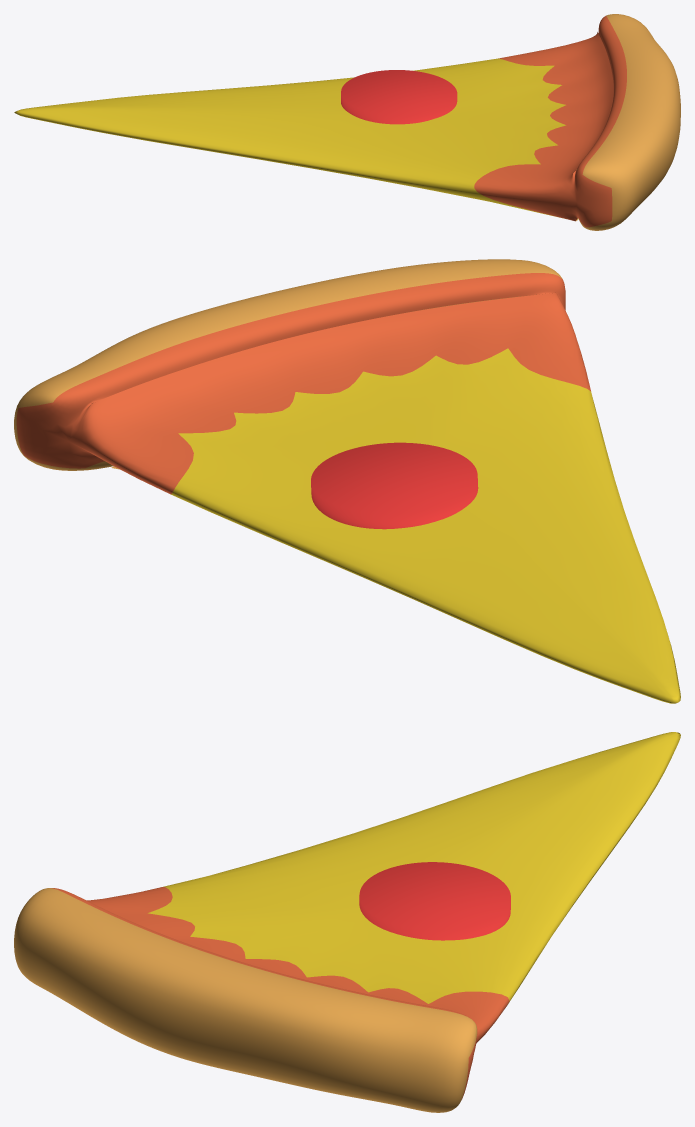
File: PizzaSlice.fbx
3 views of the same model, one above another, from view 1: azimuth 30°, elevation 25°; view 2: azimuth 150°, elevation 25°; view 3: azimuth 270°, elevation 25° (orthographic). The views are drawn at different scales.
Visible parts, largest first — view 1: PizzaSlice; view 2: PizzaSlice; view 3: PizzaSlice.
Boxes of the visible parts, <box> form: PizzaSlice: <box>14,14,680,230</box>; PizzaSlice: <box>14,259,680,703</box>; PizzaSlice: <box>14,732,680,1112</box>.
Size of the model in its own units: 40.37 by 5.55 by 32.61.
